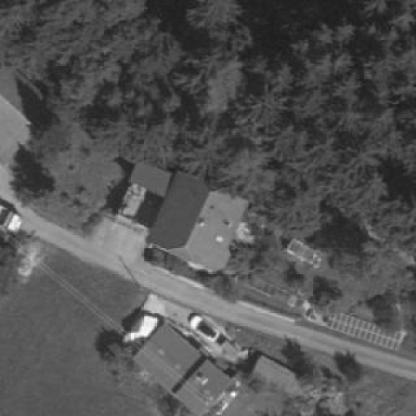solar-pv-panel: (326, 311, 405, 351), (245, 276, 306, 311), (287, 240, 320, 266)
